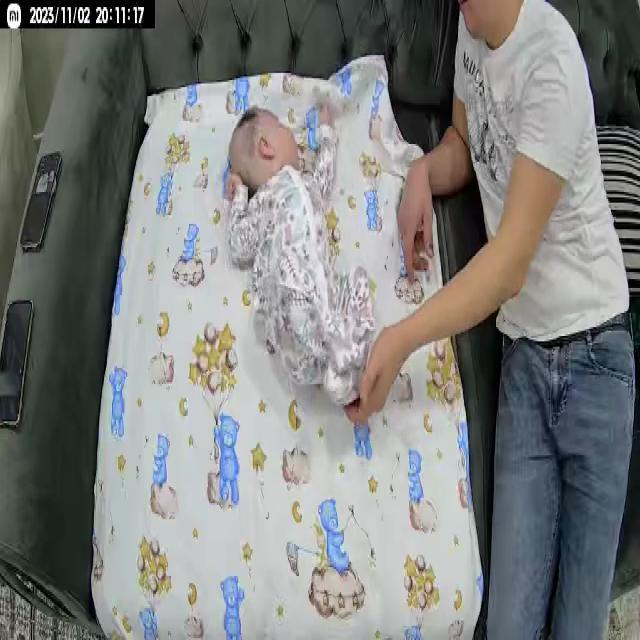baby: (221, 96, 368, 415)
